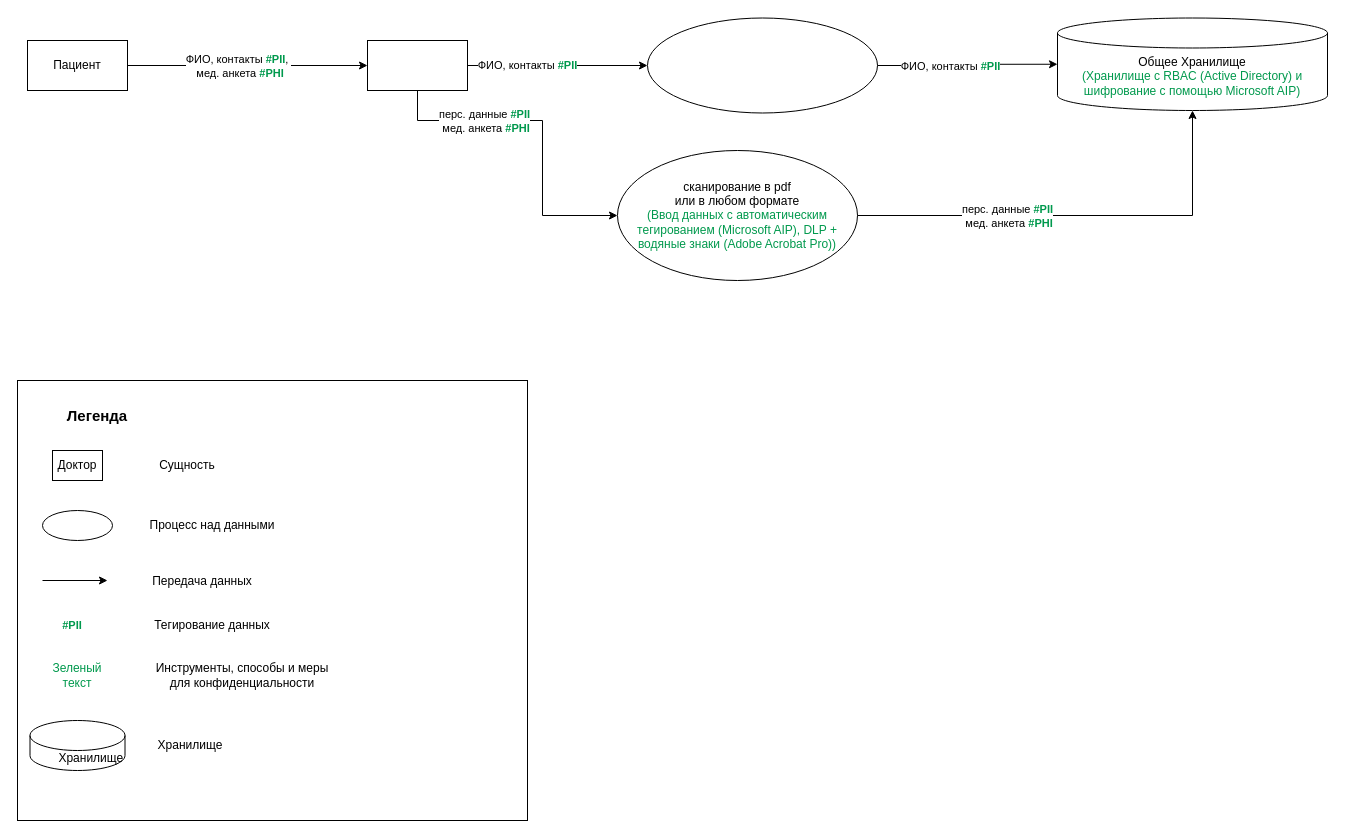
Image size: 1345x838. Some labels were removed from this diagram. Here are the shapes that lost their labels. From the top down, the centre of each, then its label:
At (417,65): "Администратор".
At (762,65): "ввод данных в excel (Ввод данных с автоматическим тегированием (Microsoft AIP) )".
At (77,525): "процесс".
